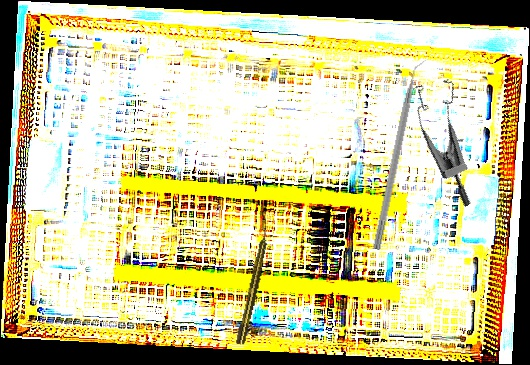Chopper: (372, 57, 431, 253)
Handpiece: (234, 226, 273, 346)
Speculum: (391, 68, 516, 208)
